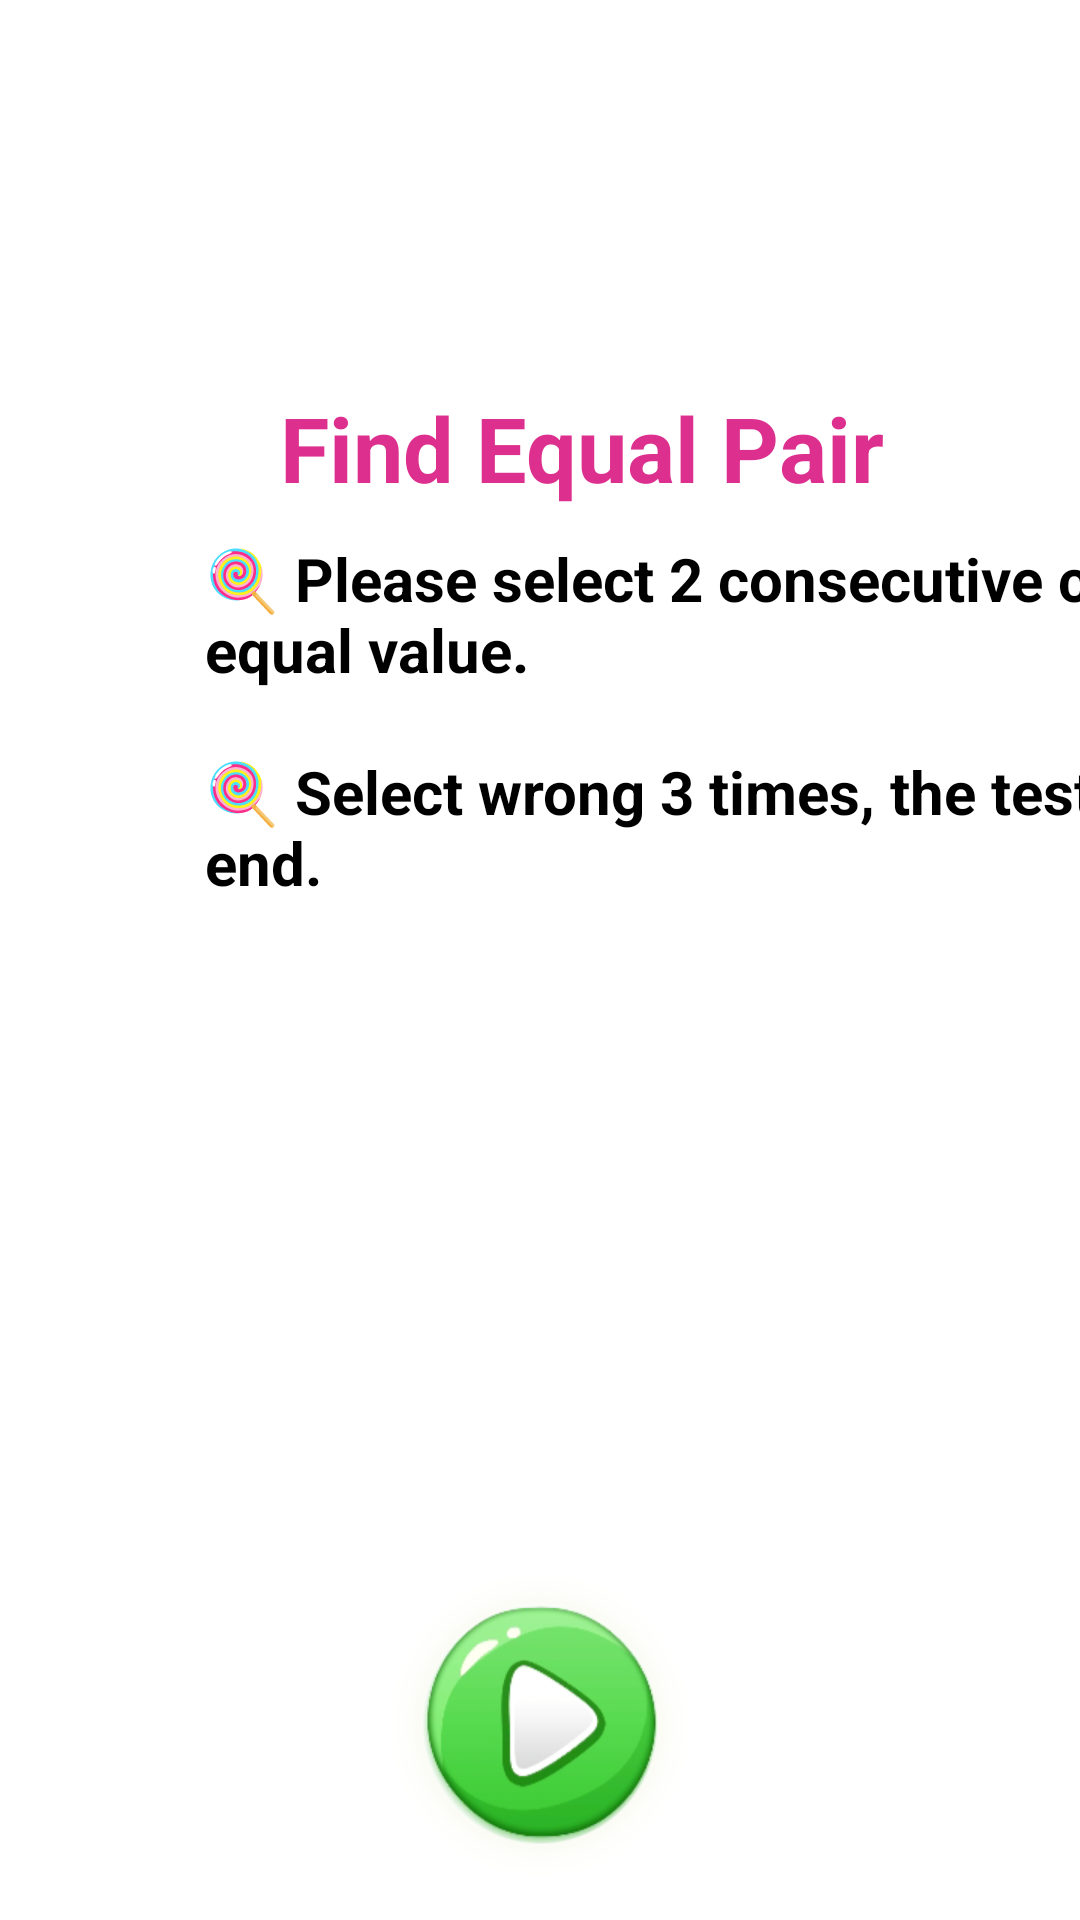

Icon click points for this 1080w x 1920h phone screenshot, format point (x, y):
play: point (540, 1724)
